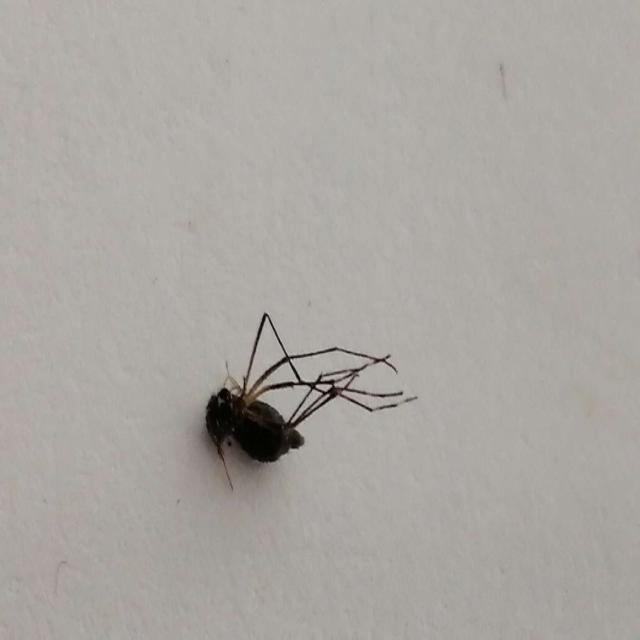albopictus: (202, 289, 406, 504)
